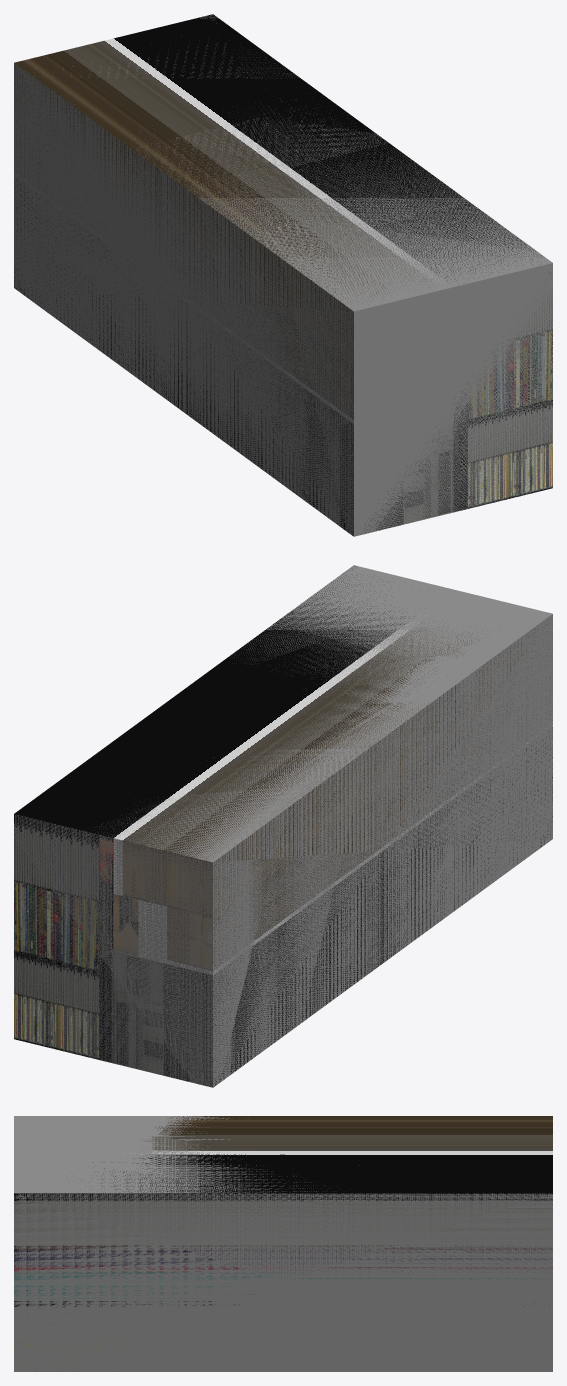
The model's file is books_01.FBX.
3 views of the same model, one above another, from view 1: azimuth 30°, elevation 25°; view 2: azimuth 150°, elevation 25°; view 3: azimuth 270°, elevation 25° (orthographic). The views are drawn at different scales.
Parts seen in each view (by area): view 1: bounds, colbox-1; view 2: bounds, colbox-1; view 3: bounds, colbox-1.
Boxes of the visible parts, x1=… form: bounds: x1=14, y1=15, x2=552, y2=536; colbox-1: x1=14, y1=14, x2=552, y2=535; bounds: x1=14, y1=565, x2=552, y2=1087; colbox-1: x1=14, y1=566, x2=552, y2=1086; bounds: x1=14, y1=1116, x2=552, y2=1371; colbox-1: x1=14, y1=1116, x2=552, y2=1370.
Size of the model in its own units: 25.09 by 27.13 by 74.16.
